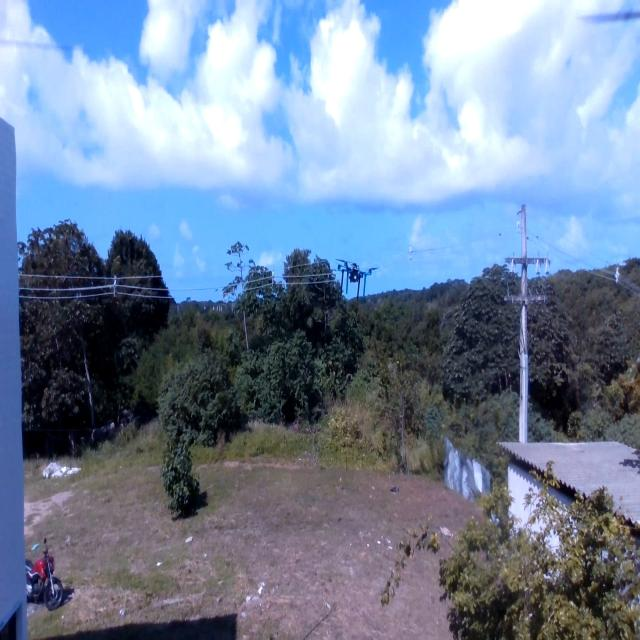-uav-: (332, 244, 381, 301)
